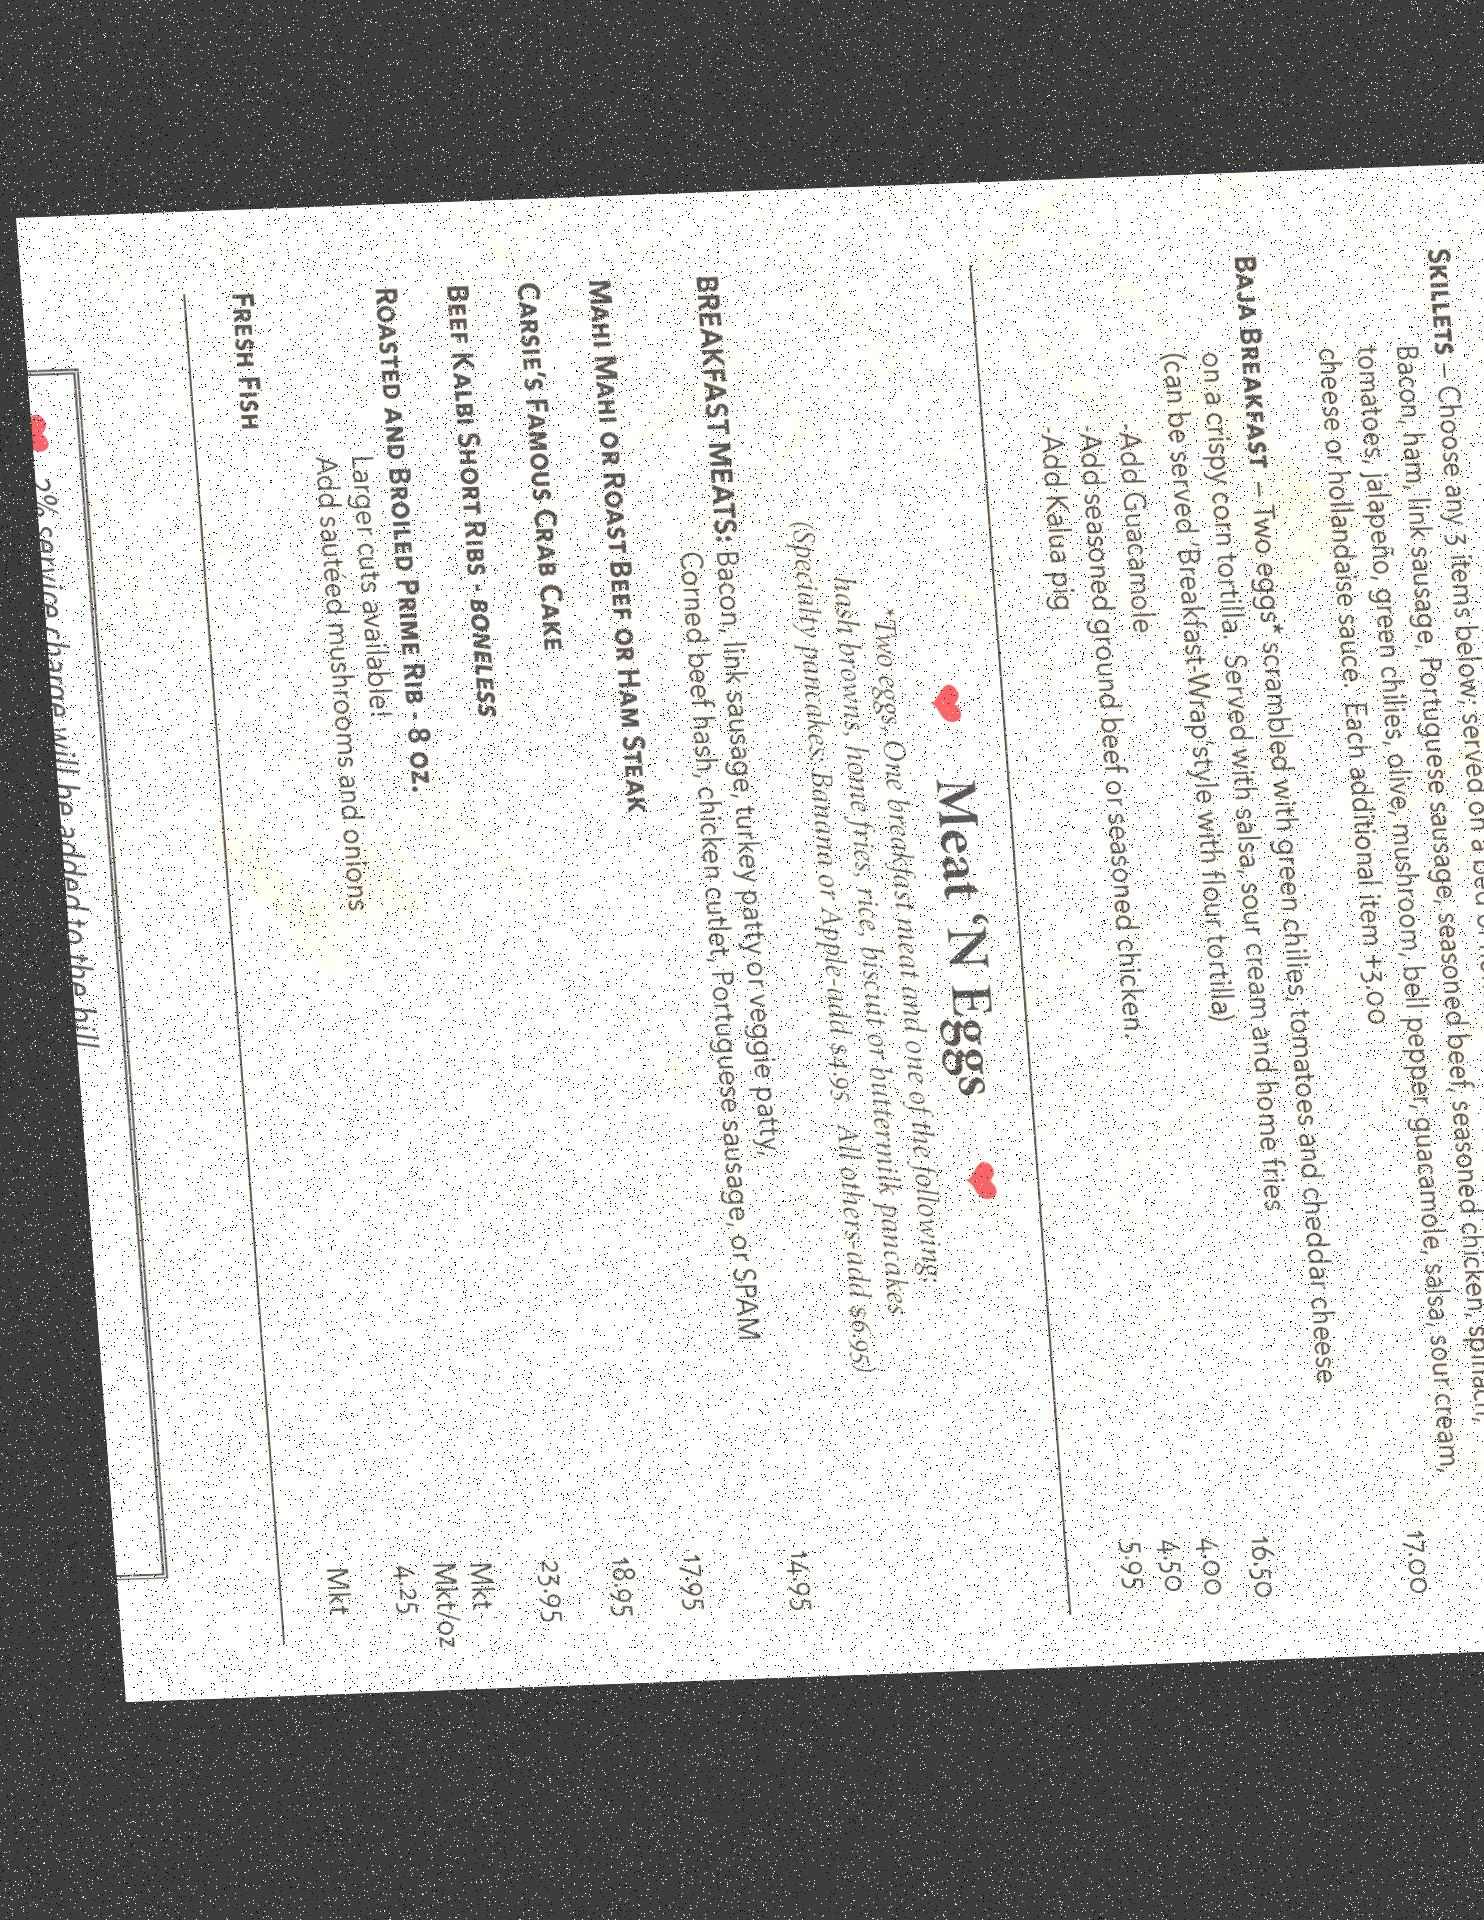Menu-Items: (987, 240, 1344, 1638), (1275, 234, 1484, 1616), (281, 277, 482, 1663), (631, 257, 818, 1649), (748, 461, 951, 1474), (413, 265, 556, 1664), (486, 262, 630, 1644), (560, 265, 698, 1641)
